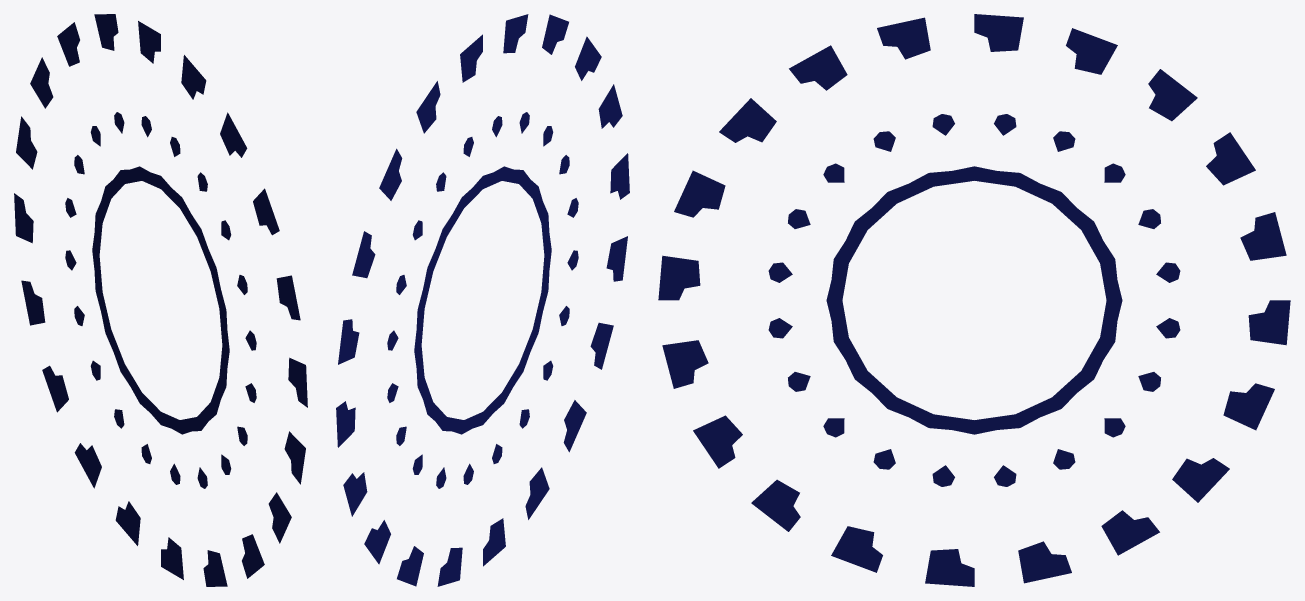
File: staklo_plavo.obj
The picture shows the model from 3 angles, left to right: view 1: azimuth 30°, elevation 25°; view 2: azimuth 150°, elevation 25°; view 3: azimuth 270°, elevation 25°; orthographic projection. The views are drawn at different scales.
Bounding box in the file's own units: 0 × 3.42 × 3.42.
